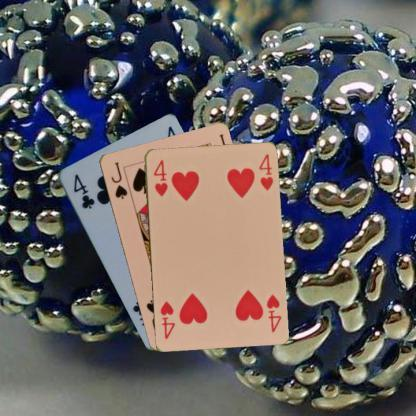4c: (70, 170, 96, 210)
4h: (150, 157, 169, 198), (264, 291, 282, 333)
Js: (108, 158, 128, 200)
